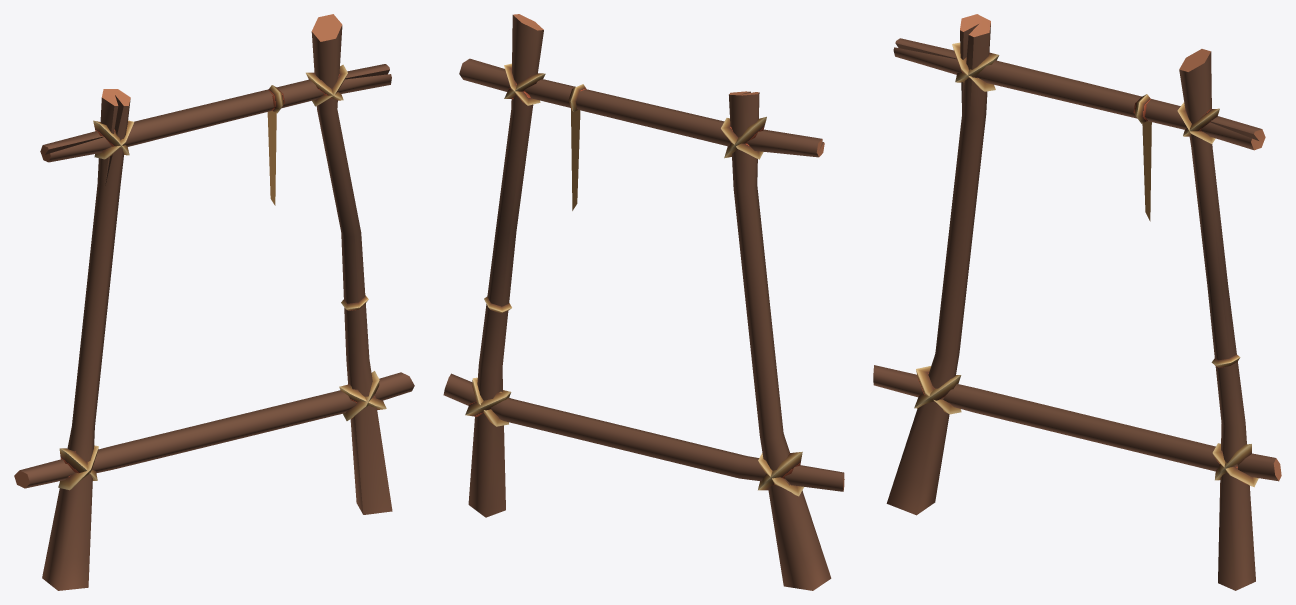
Rendered from Leather_Piece_1C.fbx.
3 renders of one model, left to right at view 1: azimuth 30°, elevation 25°; view 2: azimuth 150°, elevation 25°; view 3: azimuth 330°, elevation 25°, orthographic. The views are drawn at different scales.
Parts seen in each view (by area): view 1: Leather_Piece_1C; view 2: Leather_Piece_1C; view 3: Leather_Piece_1C.
Part boxes in pixels (x1=…): Leather_Piece_1C: x1=14, y1=14, x2=414, y2=590; Leather_Piece_1C: x1=443, y1=14, x2=844, y2=590; Leather_Piece_1C: x1=873, y1=14, x2=1281, y2=590.
Size of the model in its own units: 180 by 217 by 20.17.
